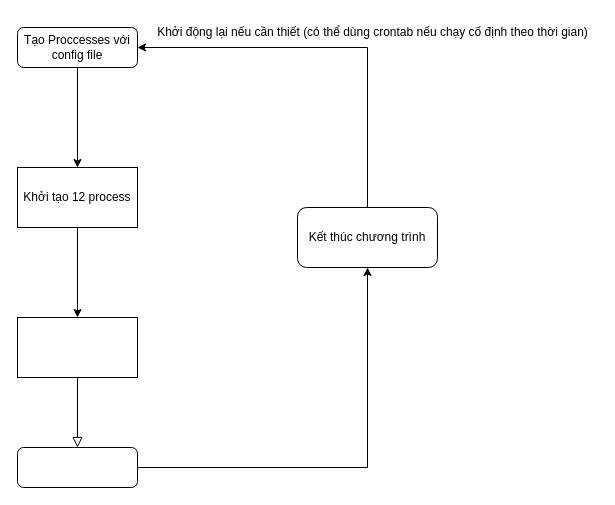
Image size: 615x505. Some labels were removed from this diagram. Each missing label, with the centre of its shape:
Ghi Log: the point at 77,467
Start chương trình: the point at 77,347
